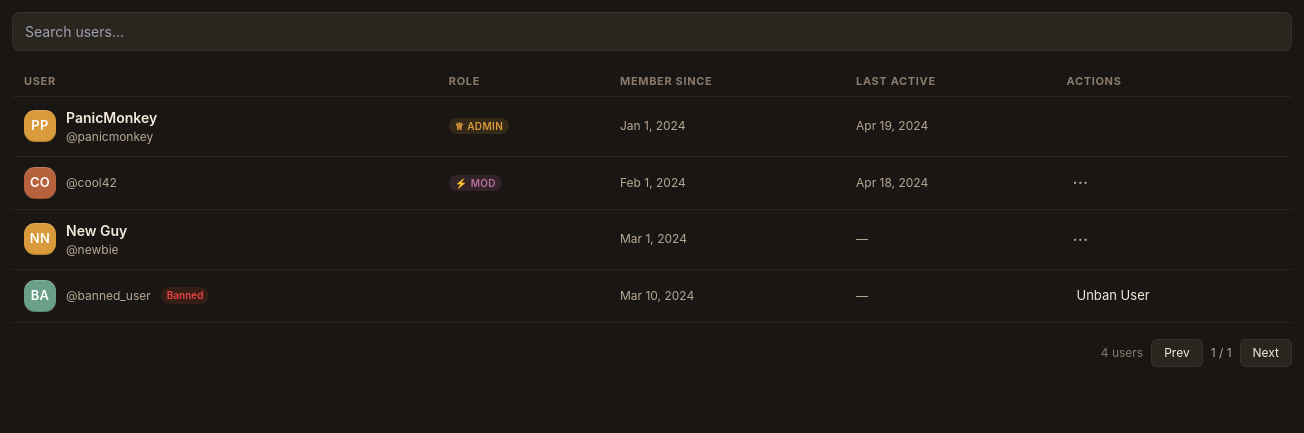
Test: UserTable — action feedback › shows a success notice after role changes
Click the button titled "actions" in the row of "cool42".
click(1080, 182)  # box [1066, 167, 1094, 198]
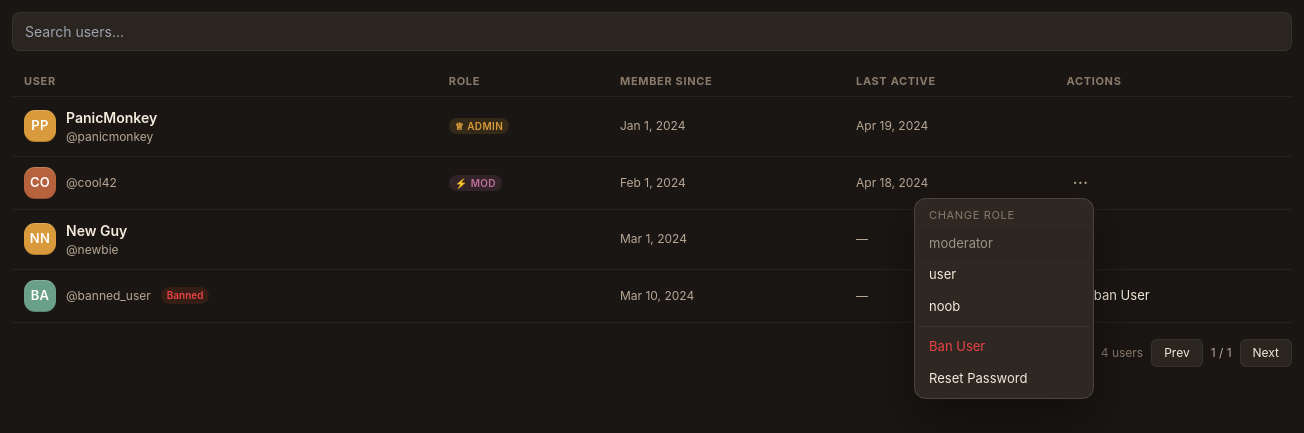
Click the button "user".
click(1004, 275)  # box [919, 259, 1089, 290]
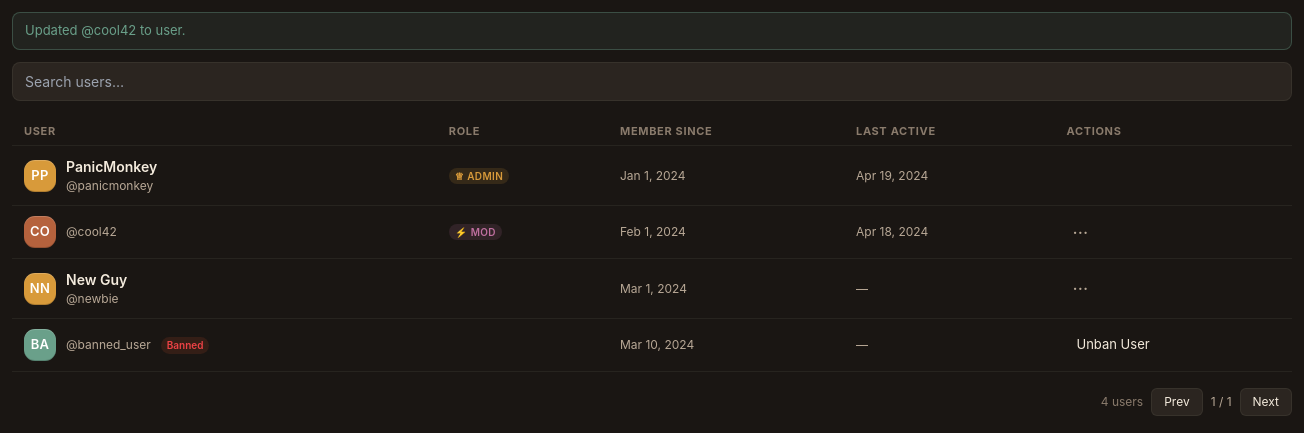
Expected: the text "Updated @cool42 to user." is shown, [12, 12, 1292, 50]
